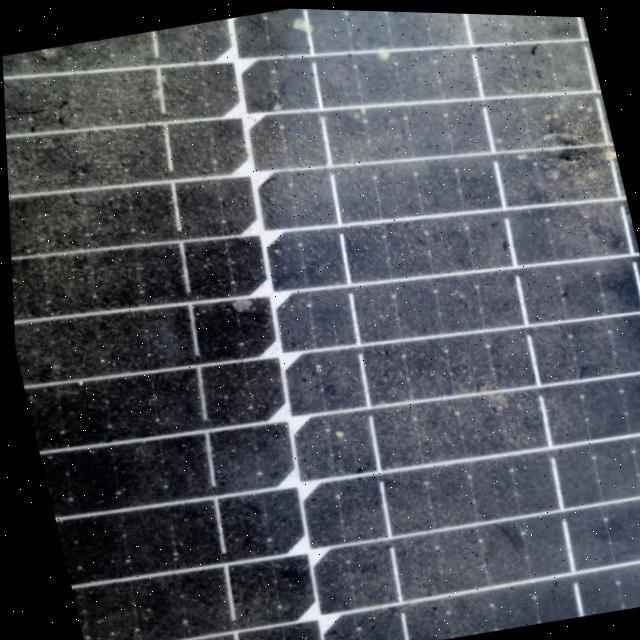Surface Contaminant: (2, 8, 640, 640)
